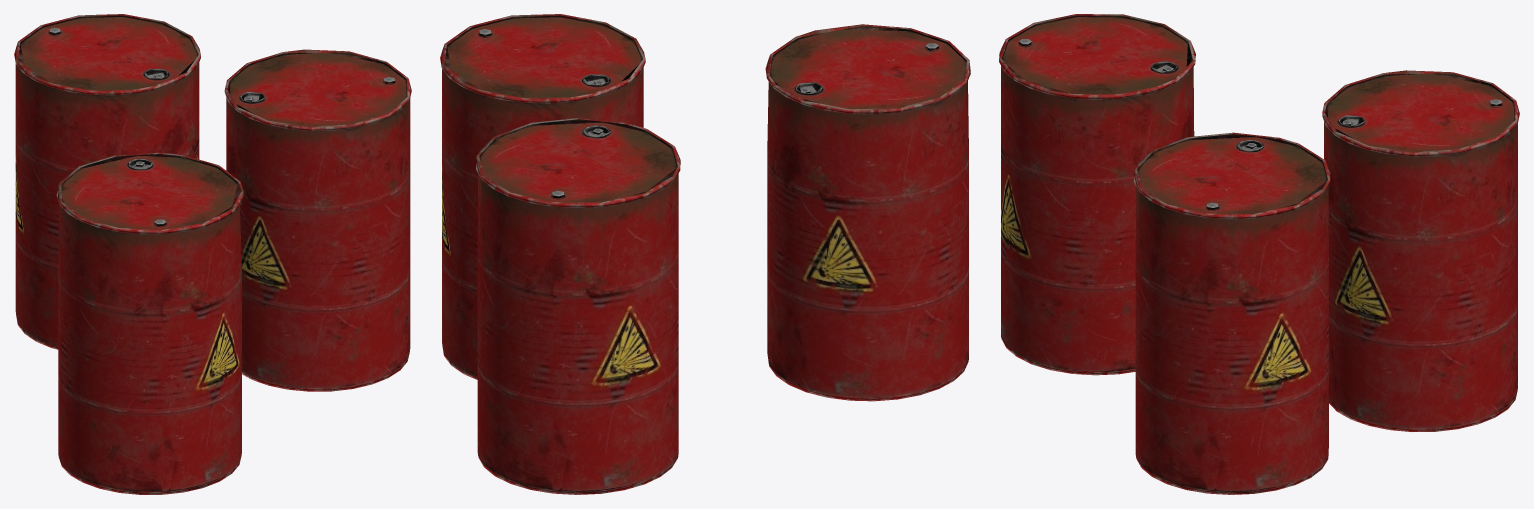
Rendered from barrels.glb.
3 views of the same model, side by side, from view 1: azimuth 30°, elevation 25°; view 2: azimuth 150°, elevation 25°; view 3: azimuth 270°, elevation 25° (orthographic). The views are drawn at different scales.
Parts seen in each view (by area): view 1: body; view 2: body; view 3: body.
Part boxes in pixels (bbox=[...]): body: bbox=[14, 14, 411, 494]; body: bbox=[440, 14, 970, 494]; body: bbox=[999, 14, 1519, 494].
Bounding box in the file's own units: 1.78 × 1.15 × 1.93.
1 material, 1 textured.
